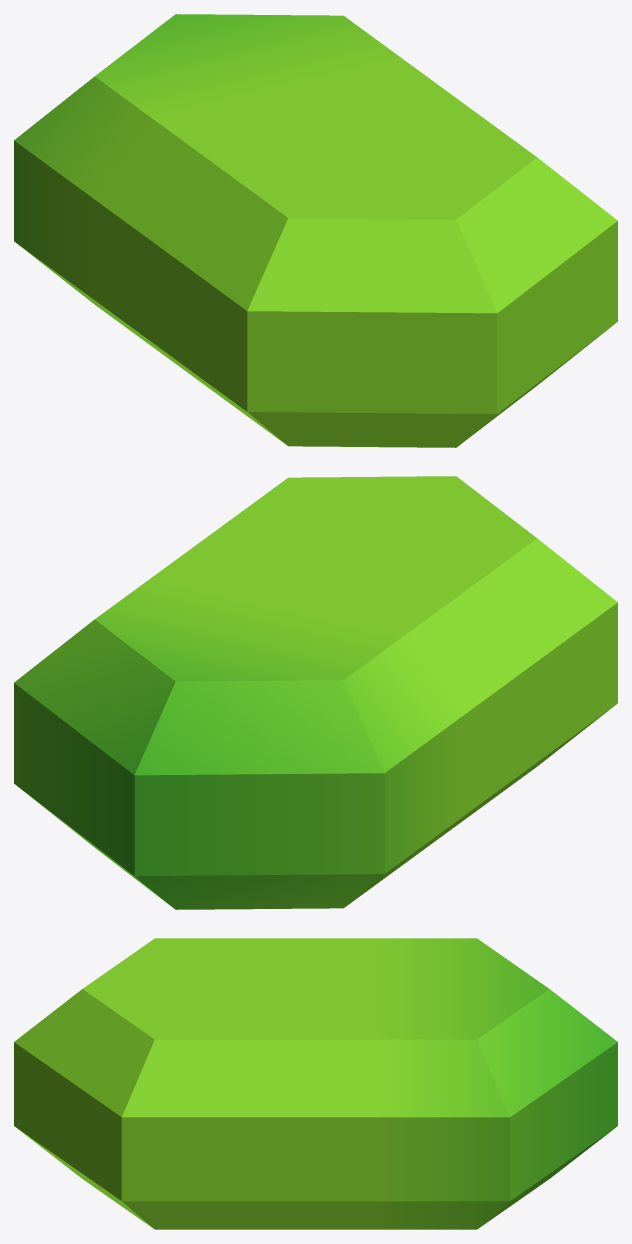
The model's file is Crystal013.fbx.
3 views of the same model, one above another, from view 1: azimuth 30°, elevation 25°; view 2: azimuth 150°, elevation 25°; view 3: azimuth 270°, elevation 25° (orthographic). The views are drawn at different scales.
Visible parts, largest first — view 1: Crystal013; view 2: Crystal013; view 3: Crystal013.
Boxes of the visible parts, <box> form: Crystal013: <box>14,14,617,447</box>; Crystal013: <box>14,476,617,909</box>; Crystal013: <box>14,938,617,1229</box>.
Bounding box in the file's own units: 85.49 × 50.3 × 145.
